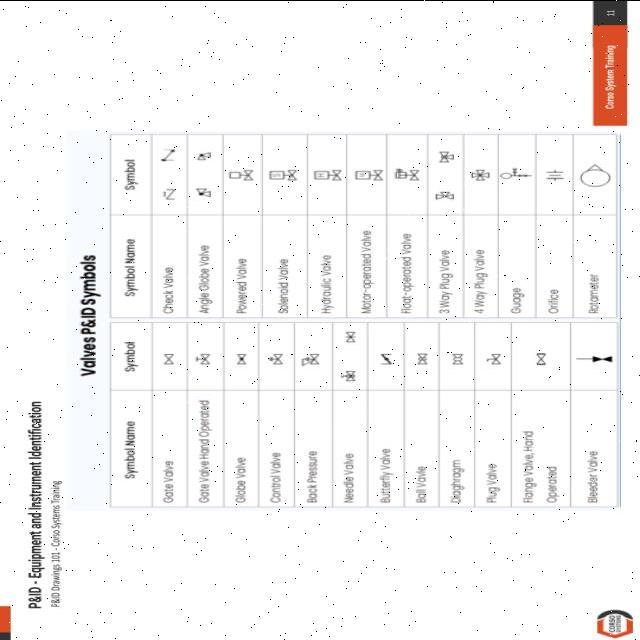3 Way Gate Valve: (432, 188, 459, 202), (436, 148, 458, 165)
4 Way Gate Valve: (470, 166, 495, 182)
Angle GlobeValve: (192, 184, 216, 198), (193, 150, 214, 166)
BackPressure Regulator: (298, 351, 320, 368)
Ball Valve: (414, 350, 430, 366), (448, 352, 466, 366)
Bleeder Valve: (573, 352, 615, 363)
Butterfly Valve: (374, 348, 398, 368)
Check Valve: (157, 146, 179, 164), (157, 186, 178, 204)
Cock Valve: (482, 349, 508, 368)
Flanged: (524, 348, 554, 369)
Float Operated Valve: (388, 164, 424, 182)
Gate Valve: (160, 349, 181, 367)
Gauge: (500, 165, 534, 182)
Globe Valve: (231, 351, 253, 369)
Hand Operated Gate Valve: (191, 347, 216, 371)
Hydraulic Operated Gate Valve: (308, 164, 348, 184)
Motor Operated Gate Valve: (350, 168, 383, 182)
Needle Valve: (338, 368, 361, 385), (342, 328, 360, 344)
Orifice: (544, 166, 566, 181)
Pneumatic-Diaphragm Gate Valve: (264, 351, 290, 365)
Powered Gate Valve: (225, 166, 258, 183)
Rotameter: (576, 162, 612, 192)
Solenoid Operated Gate Valve: (269, 166, 301, 182)
